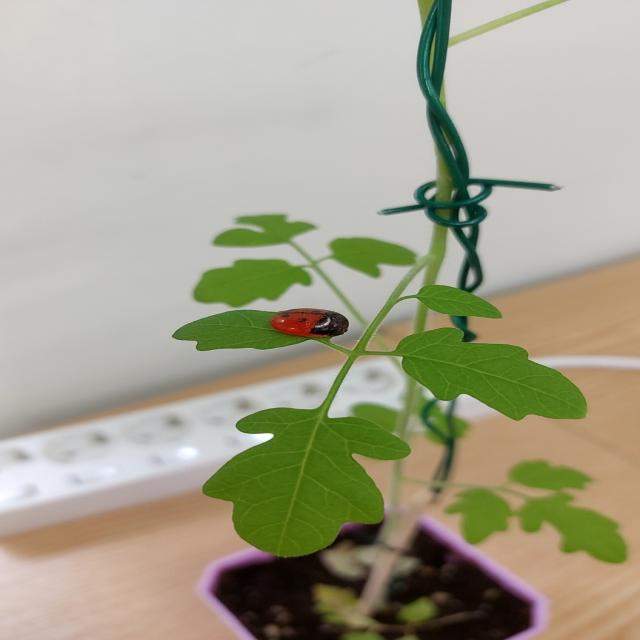bug: (264, 298, 366, 350)
